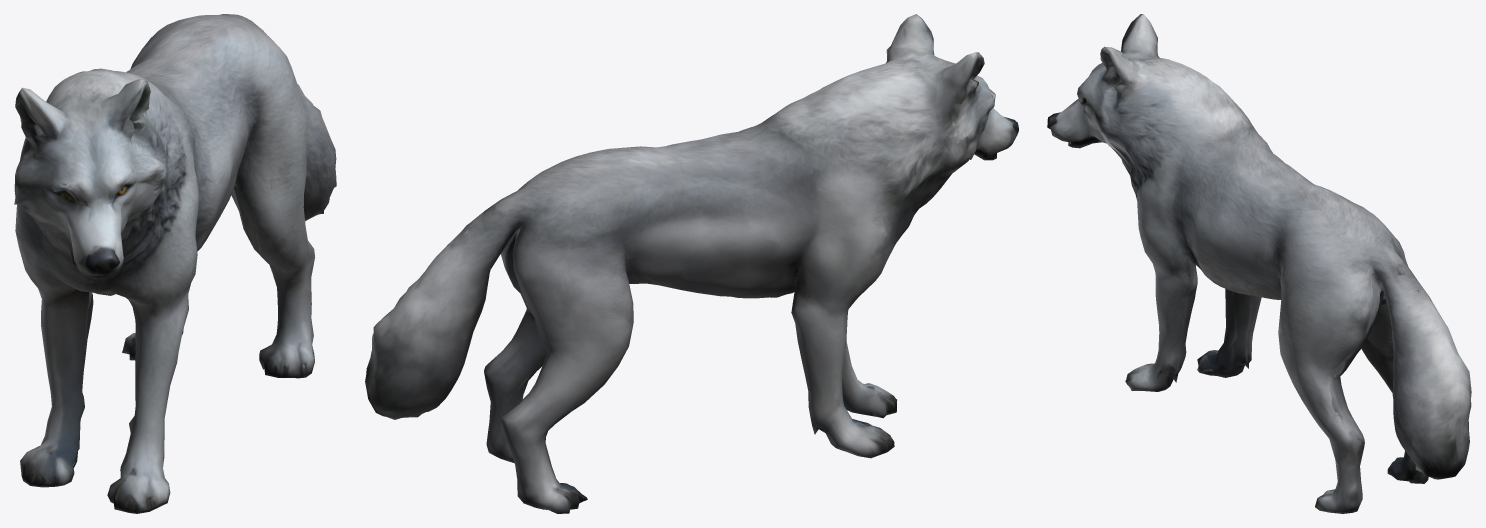
Rendered from wolf_texture.obj.
The picture shows the model from 3 angles, left to right: view 1: azimuth 30°, elevation 25°; view 2: azimuth 150°, elevation 25°; view 3: azimuth 270°, elevation 25°; orthographic projection. The views are drawn at different scales.
Parts seen in each view (by area): view 1: wolf_ori_0507035414_texture; view 2: wolf_ori_0507035414_texture; view 3: wolf_ori_0507035414_texture.
Part boxes in pixels (left/top/right/bottom): wolf_ori_0507035414_texture: left=14, top=14, right=336, bottom=513; wolf_ori_0507035414_texture: left=365, top=14, right=1018, bottom=513; wolf_ori_0507035414_texture: left=1047, top=14, right=1471, bottom=513.
Bounding box in the file's own units: 2 × 1.8 × 1.95.
1 material, 1 textured.
